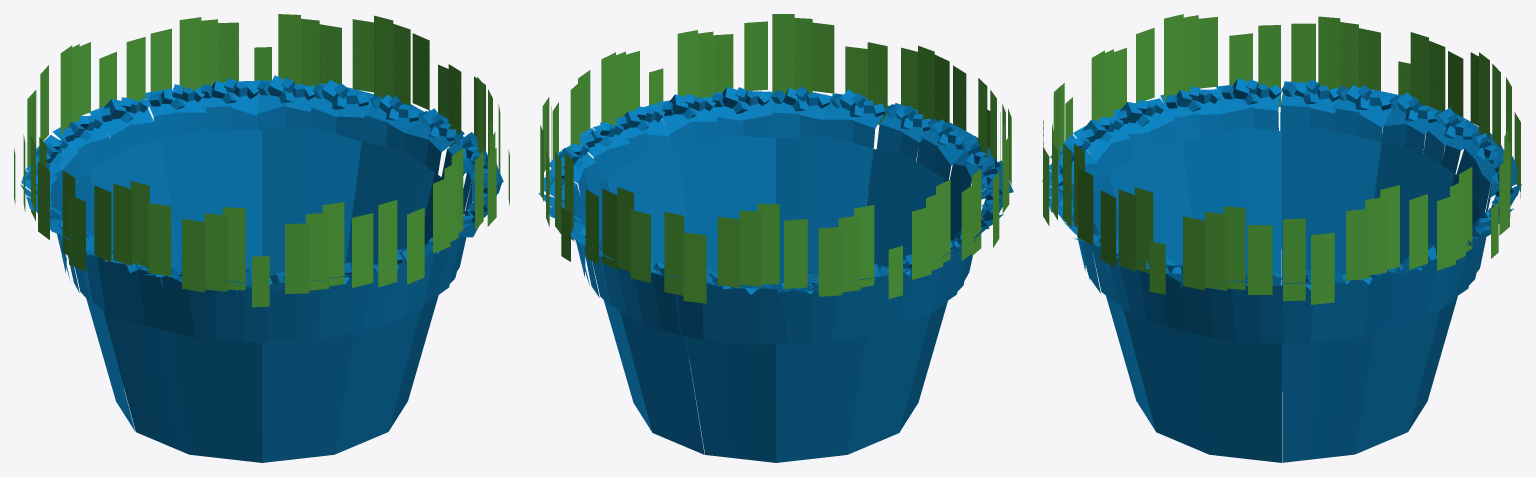
3 renders of one model, left to right at view 1: azimuth 30°, elevation 25°; view 2: azimuth 150°, elevation 25°; view 3: azimuth 270°, elevation 25°, orthographic. The views are drawn at different scales.
Parts seen in each view (by area): view 1: bgBuildings1, bgBuildings3, bgBuildings2, bgBuildings; view 2: bgBuildings, bgBuildings2, bgBuildings3, bgBuildings1; view 3: bgBuildings2, bgBuildings3, bgBuildings, bgBuildings1.
Part boxes in pixels (bbox=[...]): bgBuildings1: bbox=[60, 170, 378, 462]; bgBuildings3: bbox=[145, 14, 464, 275]; bgBuildings2: bbox=[335, 76, 509, 454]; bgBuildings: bbox=[14, 37, 179, 431]; bgBuildings: bbox=[664, 179, 976, 462]; bgBuildings2: bbox=[578, 14, 888, 356]; bgBuildings3: bbox=[538, 82, 704, 454]; bgBuildings1: bbox=[866, 45, 1013, 431]; bgBuildings2: bbox=[1043, 123, 1284, 462]; bgBuildings3: bbox=[1282, 128, 1521, 462]; bgBuildings: bbox=[1280, 16, 1520, 285]; bgBuildings1: bbox=[1042, 14, 1281, 400].
Size of the model in its own units: 20.4 by 14.05 by 20.4.
